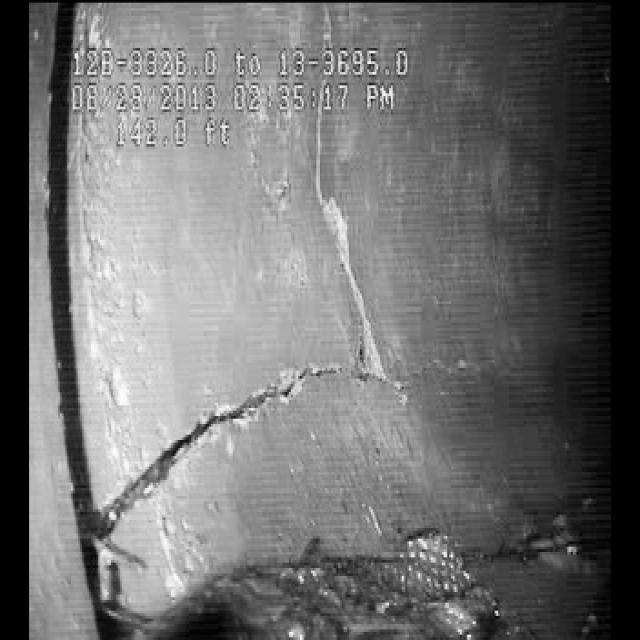Fracture: (86, 202, 462, 518)
